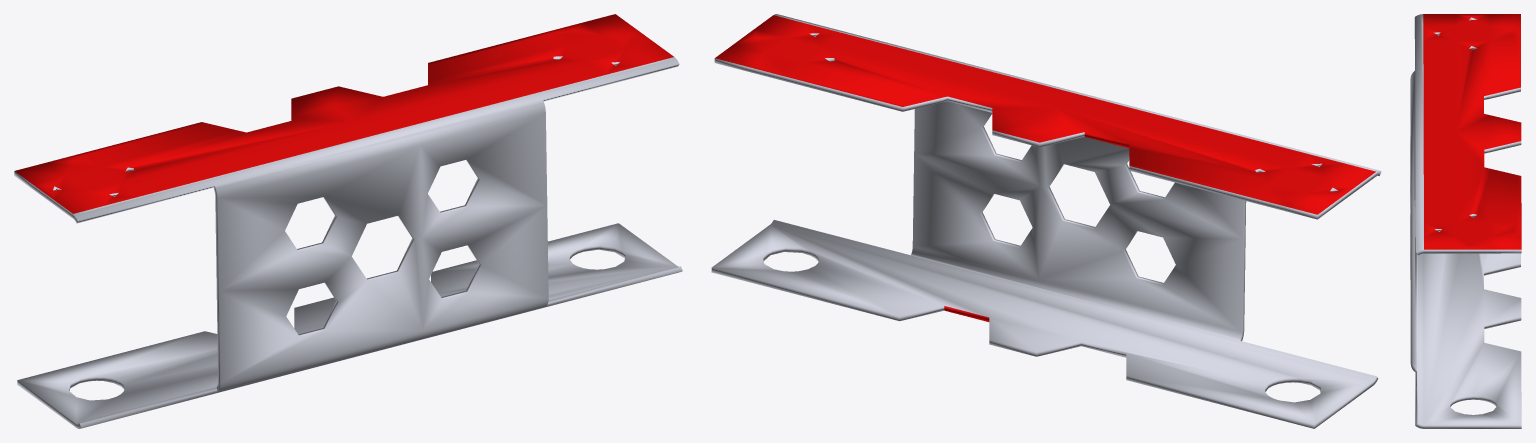
File: femur2.fbx
The picture shows the model from 3 angles, left to right: view 1: azimuth 30°, elevation 25°; view 2: azimuth 150°, elevation 25°; view 3: azimuth 270°, elevation 25°; orthographic projection. The views are drawn at different scales.
Parts seen in each view (by area): view 1: default; view 2: default; view 3: default.
Part boxes in pixels (x1,y1,x2,y2): default: [14, 14, 682, 428]; default: [711, 14, 1381, 428]; default: [1410, 14, 1521, 428].
Bounding box in the file's own units: 133 × 47.07 × 25.47.
